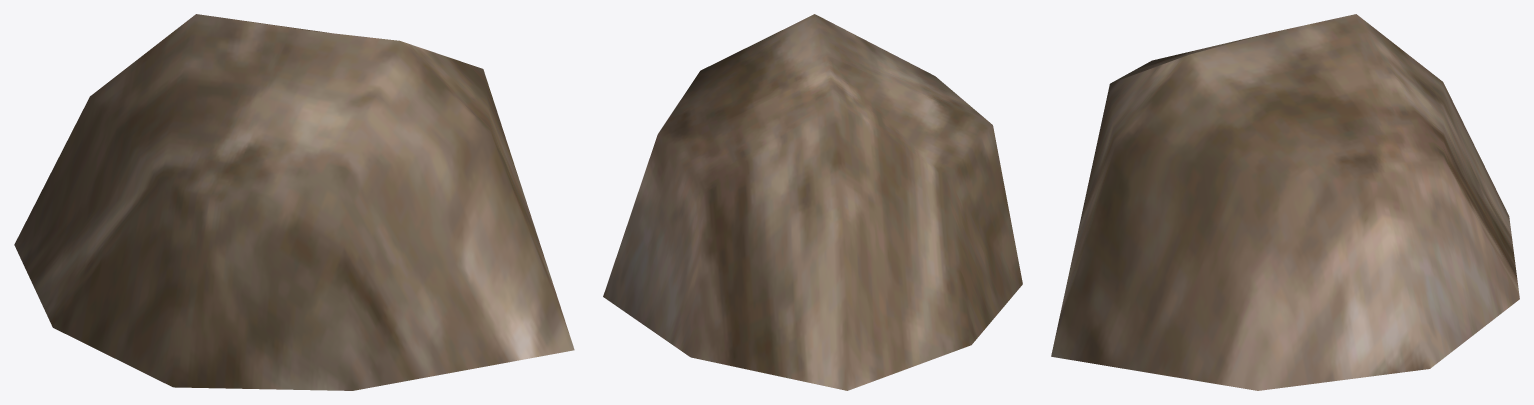
The model's file is OVERHILL_A_01_ROCK204.fbx.
The picture shows the model from 3 angles, left to right: view 1: azimuth 30°, elevation 25°; view 2: azimuth 150°, elevation 25°; view 3: azimuth 270°, elevation 25°; orthographic projection. The views are drawn at different scales.
Visible parts, largest first — view 1: OVERHILL_A_01_ROCK204; view 2: OVERHILL_A_01_ROCK204; view 3: OVERHILL_A_01_ROCK204.
Part boxes in pixels (x1=…): OVERHILL_A_01_ROCK204: x1=14, y1=14, x2=574, y2=390; OVERHILL_A_01_ROCK204: x1=603, y1=14, x2=1022, y2=390; OVERHILL_A_01_ROCK204: x1=1051, y1=14, x2=1519, y2=390.
Bounding box in the file's own units: 7174 × 4301 × 7101.
1 material, 1 textured.
